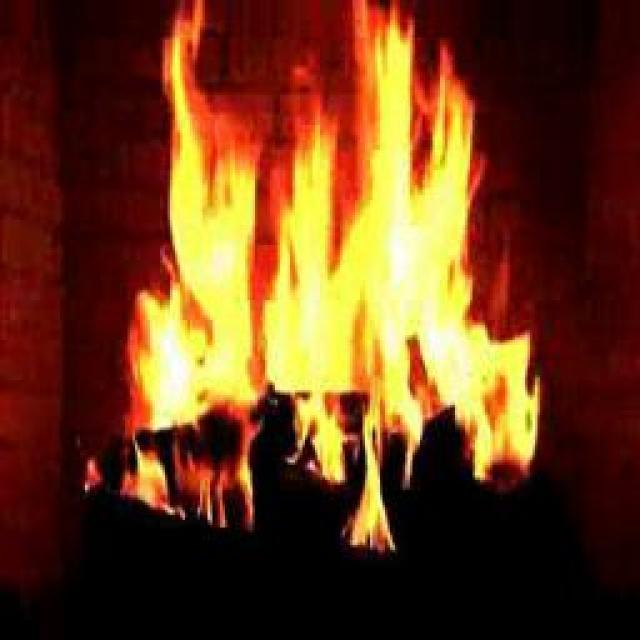Fire: (157, 49, 526, 455)
